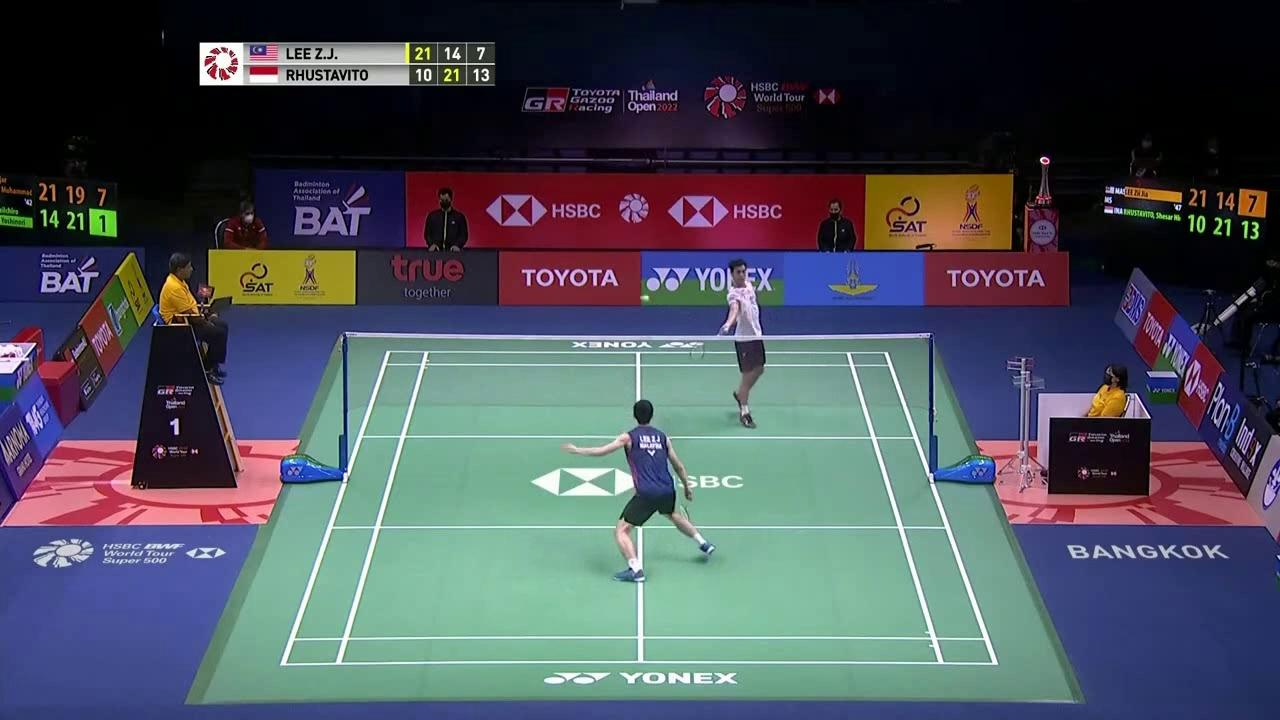racket: (689, 325, 729, 362), (679, 487, 691, 522)
shuttle: (639, 294, 651, 303)
